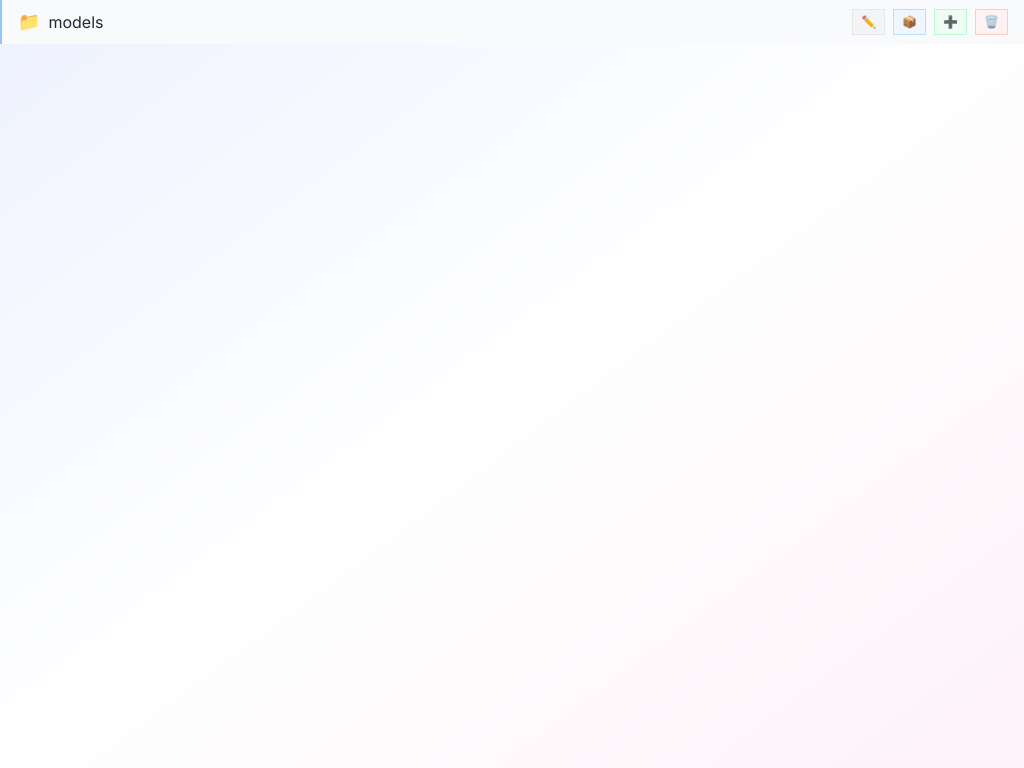
Test case: FileTreeNode › displays error message on load failure
What coordinates should you click on to do the following:
click the text "models"
I would click on:
 (76, 22)
Its box is [48,12,104,32].
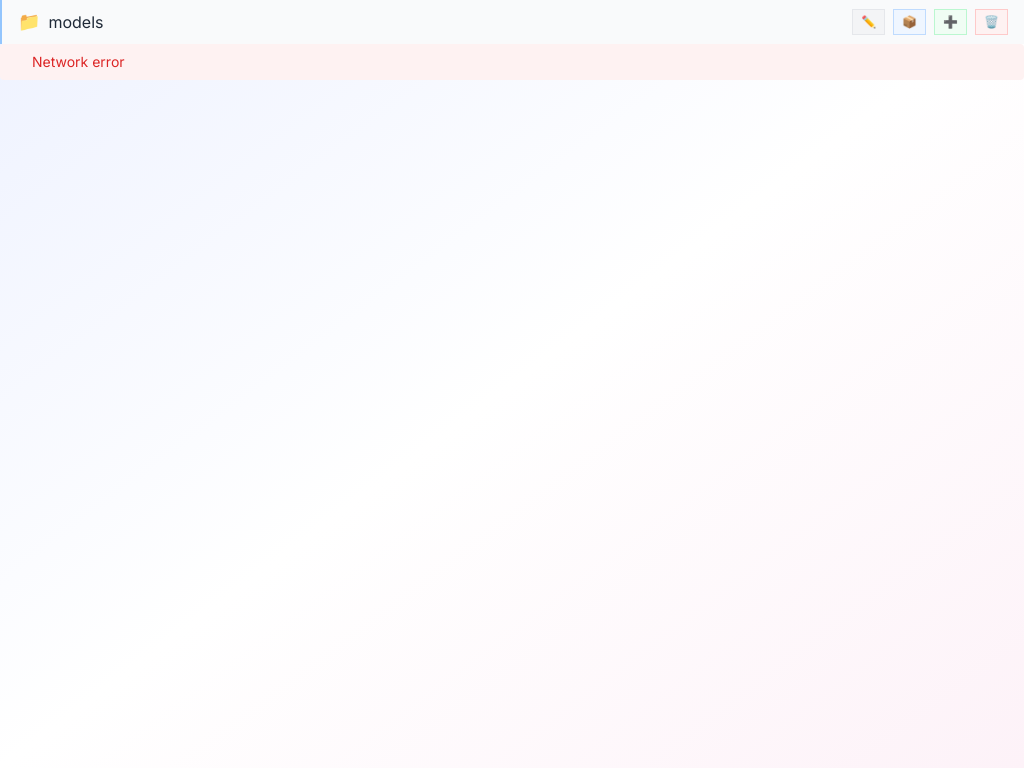
Expected: the text "Network error" is shown, [0,44,1023,80]
